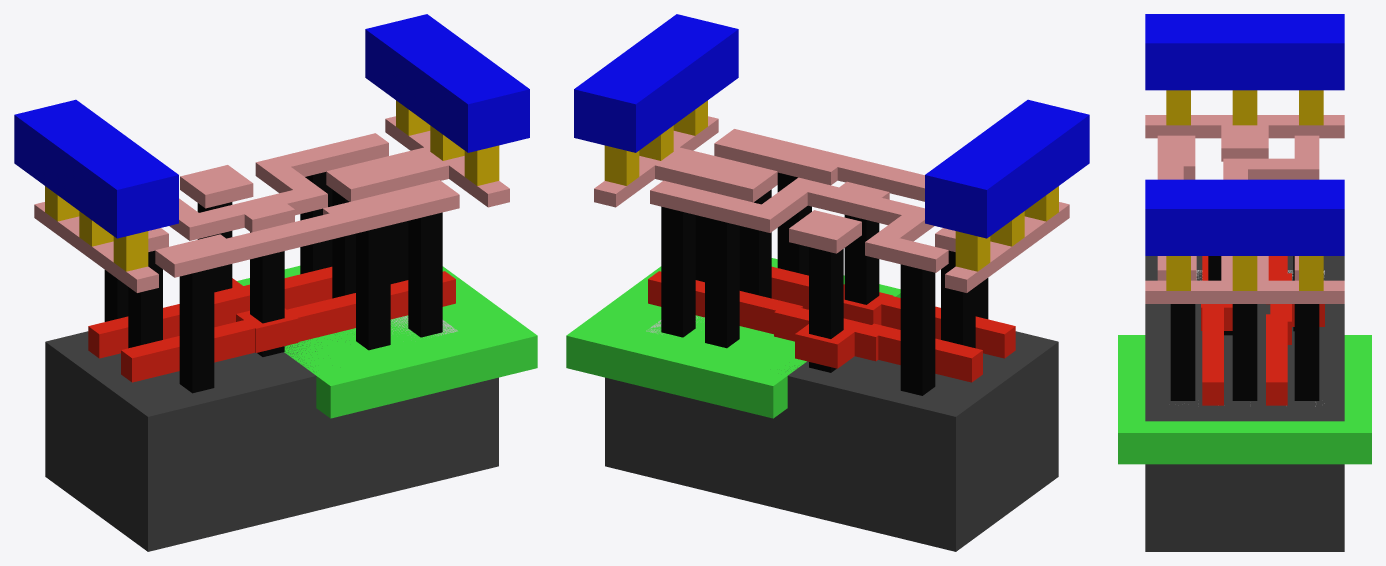
File: sky130_fd_sc_hd__buf_1.obj
3 views of the same model, side by side, from view 1: azimuth 30°, elevation 25°; view 2: azimuth 150°, elevation 25°; view 3: azimuth 270°, elevation 25° (orthographic). The views are drawn at different scales.
Visible parts, largest first — view 1: subs, metal1, li, licon, nwell, poly, mcon; view 2: subs, metal1, li, licon, nwell, poly, mcon; view 3: metal1, subs, nwell, li, licon, poly, mcon.
Boxes of the visible parts, left/top/right/bottom form: subs: left=45, top=331, right=498, bottom=551; metal1: left=14, top=14, right=529, bottom=238; li: left=34, top=116, right=509, bottom=292; licon: left=104, top=172, right=442, bottom=393; nwell: left=237, top=265, right=537, bottom=418; poly: left=88, top=266, right=455, bottom=382; mcon: left=45, top=100, right=499, bottom=271; subs: left=605, top=331, right=1058, bottom=551; metal1: left=574, top=14, right=1089, bottom=238; li: left=594, top=116, right=1069, bottom=292; licon: left=661, top=172, right=988, bottom=395; nwell: left=566, top=258, right=900, bottom=418; poly: left=648, top=266, right=1015, bottom=382; mcon: left=604, top=100, right=1058, bottom=271; metal1: left=1145, top=14, right=1344, bottom=255; subs: left=1145, top=256, right=1344, bottom=551; nwell: left=1118, top=335, right=1371, bottom=464; li: left=1145, top=115, right=1344, bottom=303; licon: left=1170, top=256, right=1319, bottom=400; poly: left=1201, top=256, right=1324, bottom=405; mcon: left=1166, top=90, right=1323, bottom=290.
Bounding box in the file's own units: 3.2 × 2.74 × 1.76.
